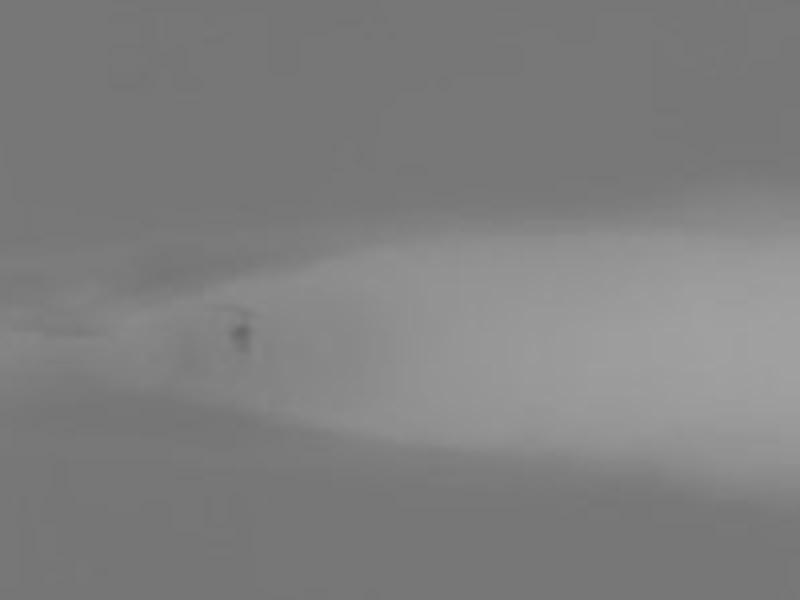defect: (227, 323, 257, 351)
